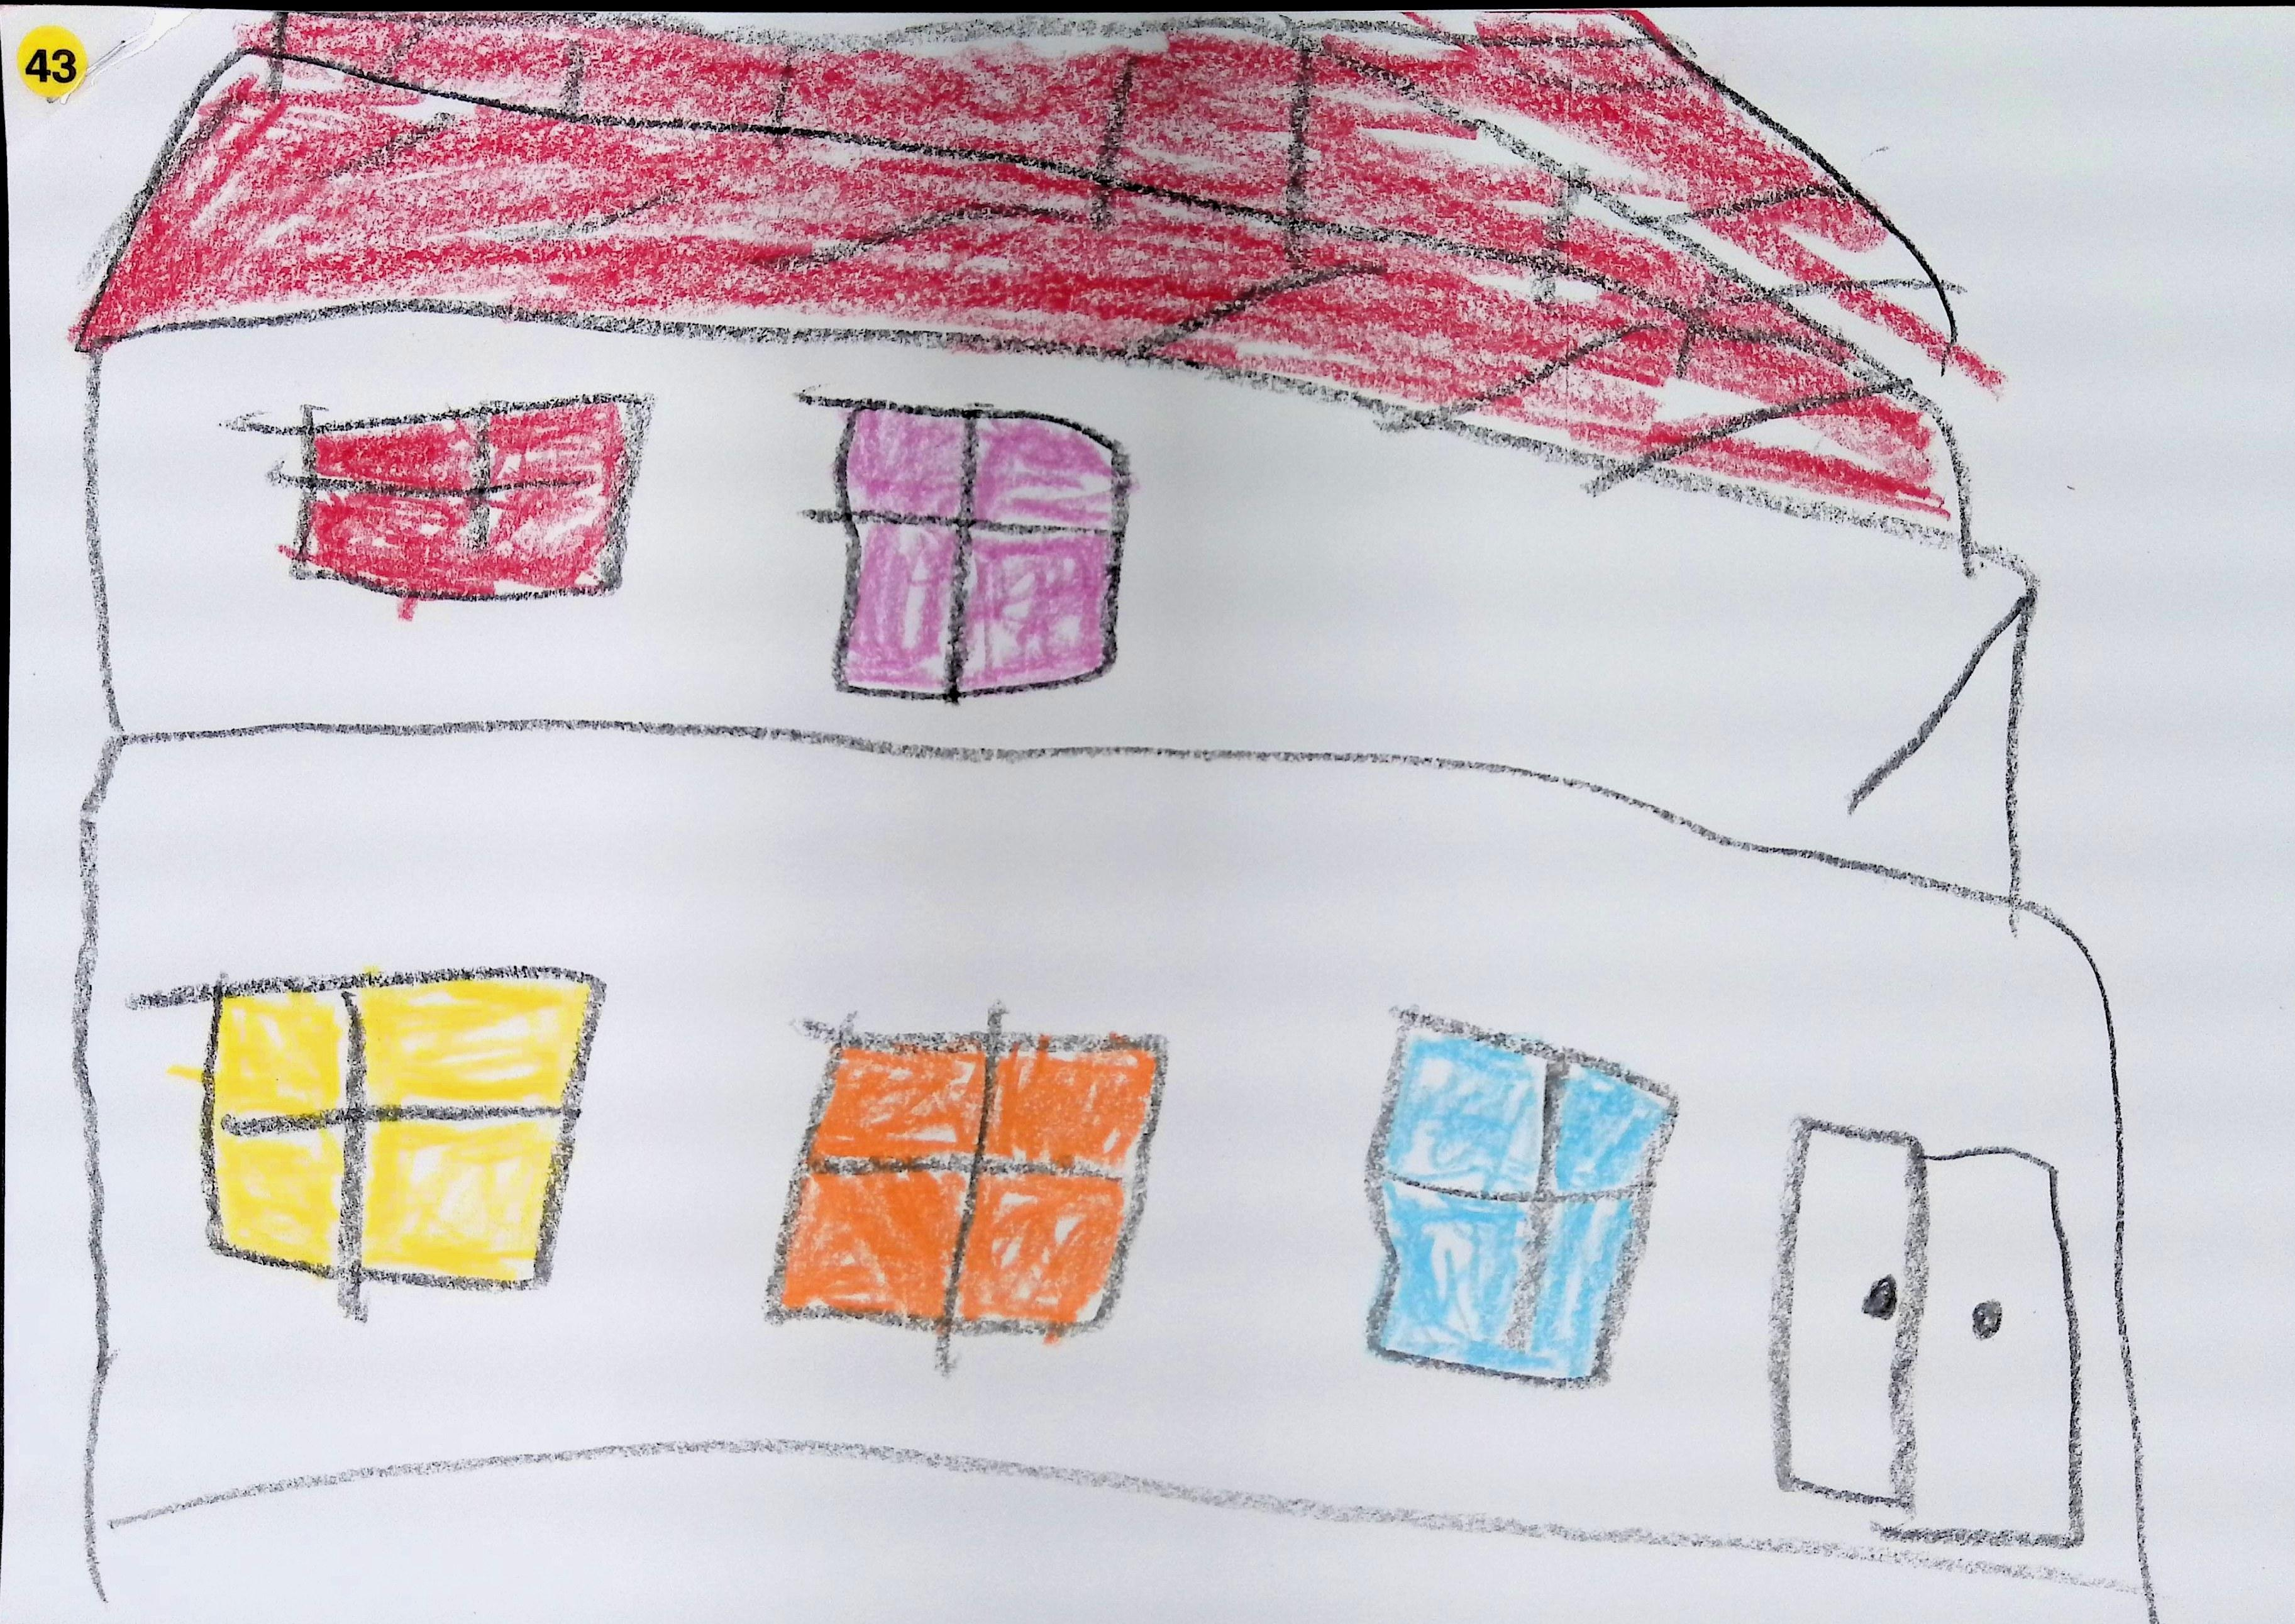door: (1775, 1121, 2086, 1548)
house: (49, 11, 2151, 1615)
roof: (72, 9, 1965, 529)
wall: (69, 308, 2172, 1624)
window: (199, 970, 599, 1288), (770, 1030, 1162, 1338), (1369, 1014, 1676, 1387), (835, 401, 1130, 698), (278, 394, 647, 592)
